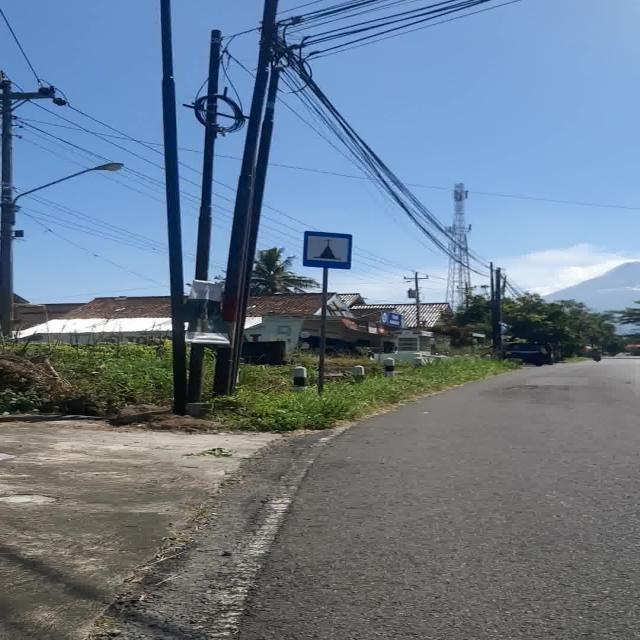Gereja: (302, 230, 352, 270)
